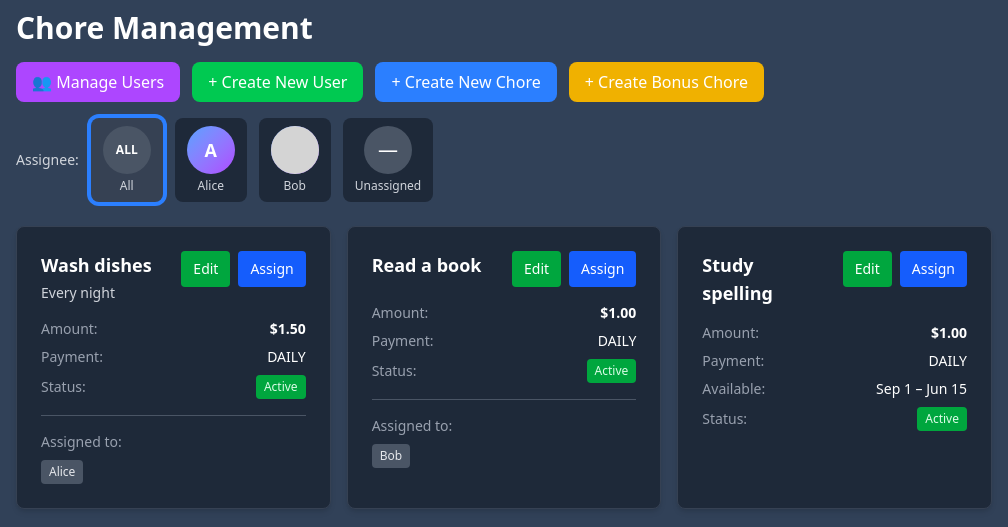
it: assignee filter › restores the full list via All
Expected: the heading "Wash dishes" is shown, [41,251,165,279]
Click the button "Bob" at (295, 160), box [259,118,331,202]
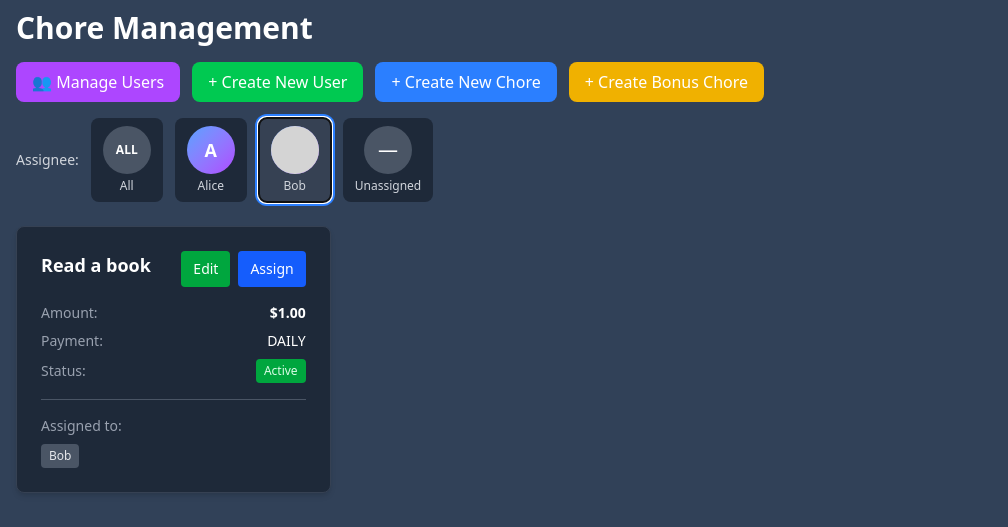
Expected: the heading "Wash dishes" is gone
Click the button "ALL All" at (127, 160), box [91,118,163,202]
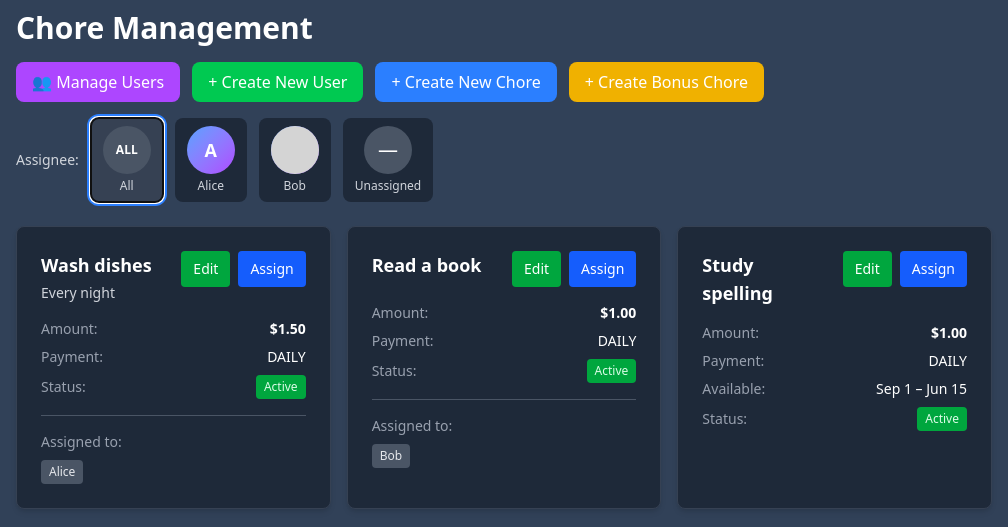
Expected: the heading "Read a book" is shown, [372,251,496,279]
Expected: the heading "Wash dishes" is shown, [41,251,165,279]
